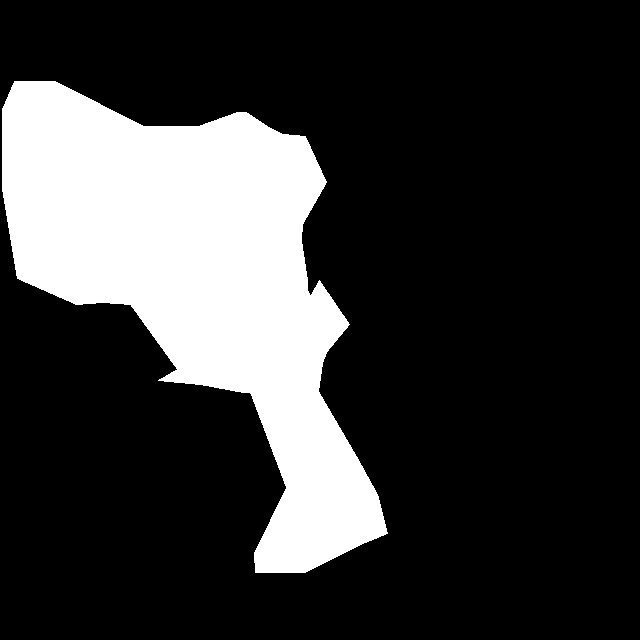Fire: (118, 119, 333, 388)
